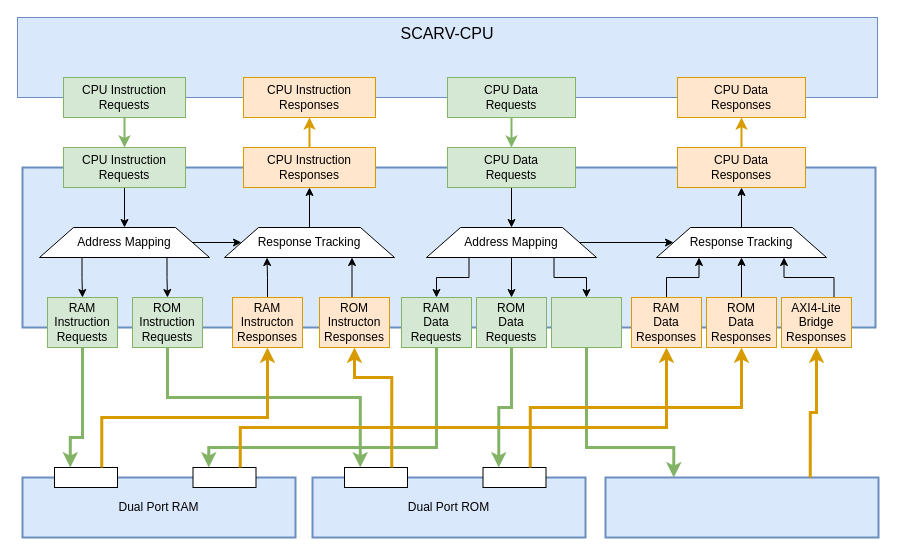
Some shapes in this 897 by 556 pixel diagram are drawn without their labels. The centre of each missing label's shape, as x and y in pixels:
"AXI4-Lite Bridge" goes at point (741, 507).
"AXI4-Lite Bridge Requests" goes at point (586, 322).
